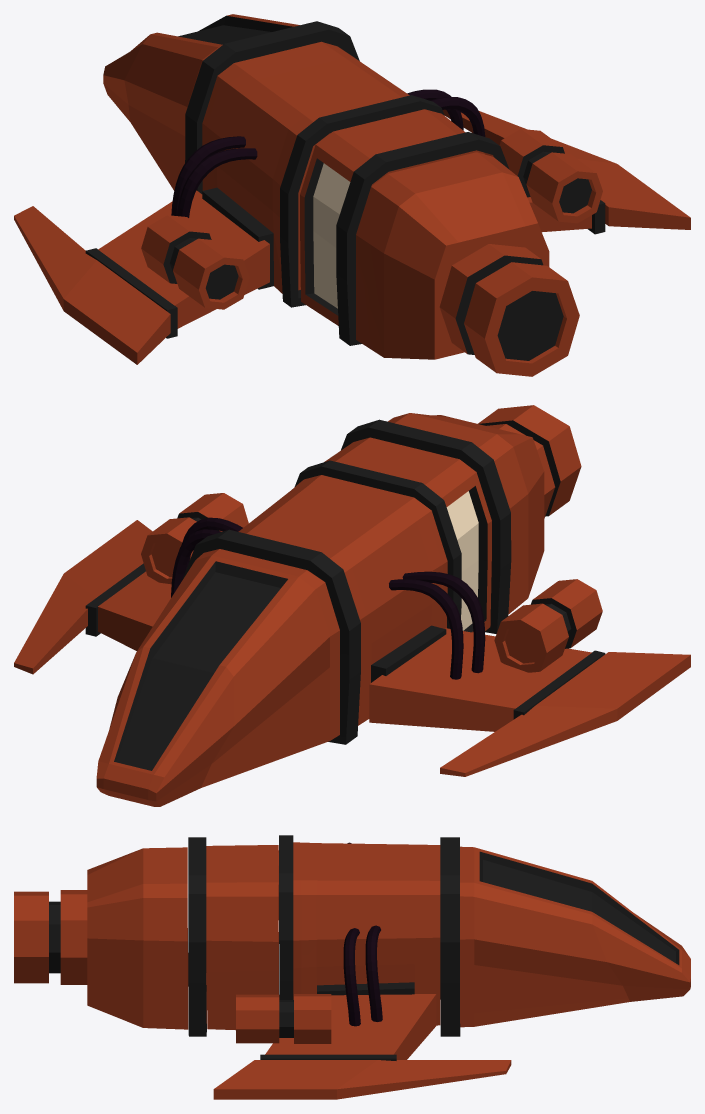
Rendered from Statek_Cały_final.fbx.
3 views of the same model, one above another, from view 1: azimuth 30°, elevation 25°; view 2: azimuth 150°, elevation 25°; view 3: azimuth 270°, elevation 25° (orthographic). The views are drawn at different scales.
Parts seen in each view (by area): view 1: Cube.002, Cube.006, Cube.004, Cube.007, Circle.003, Cube.008, Circle.000, Cube.000; view 2: Cube.007, Cube.006, Circle.003, Cube.004, Cube.002, Cube.008, Circle.000, Cube.000; view 3: Cube.007, Cube.002, Cube.006, Cube.004, Circle.000, Cube.000.
Part boxes in pixels (x1=…): Cube.002: x1=356, y1=152, x2=579, y2=376; Cube.006: x1=202, y1=41, x2=444, y2=307; Cube.004: x1=300, y1=109, x2=509, y2=345; Cube.007: x1=103, y1=14, x2=359, y2=193; Circle.003: x1=98, y1=136, x2=269, y2=328; Cube.008: x1=14, y1=206, x2=177, y2=364; Circle.000: x1=407, y1=89, x2=602, y2=232; Cube.000: x1=442, y1=109, x2=690, y2=234; Cube.007: x1=96, y1=529, x2=360, y2=806; Cube.006: x1=238, y1=460, x2=461, y2=725; Circle.003: x1=369, y1=571, x2=602, y2=731; Cube.004: x1=324, y1=419, x2=511, y2=633; Cube.002: x1=388, y1=405, x2=581, y2=614; Cube.008: x1=440, y1=650, x2=690, y2=776; Circle.000: x1=98, y1=493, x2=248, y2=650; Cube.000: x1=14, y1=520, x2=152, y2=674; Cube.007: x1=440, y1=837, x2=690, y2=1036; Cube.002: x1=14, y1=847, x2=188, y2=1029; Cube.006: x1=279, y1=835, x2=440, y2=1025; Cube.004: x1=188, y1=837, x2=278, y2=1036; Circle.000: x1=236, y1=925, x2=436, y2=1059; Cube.000: x1=213, y1=1054, x2=511, y2=1099.
Size of the model in its own units: 973 by 299 by 1229.
